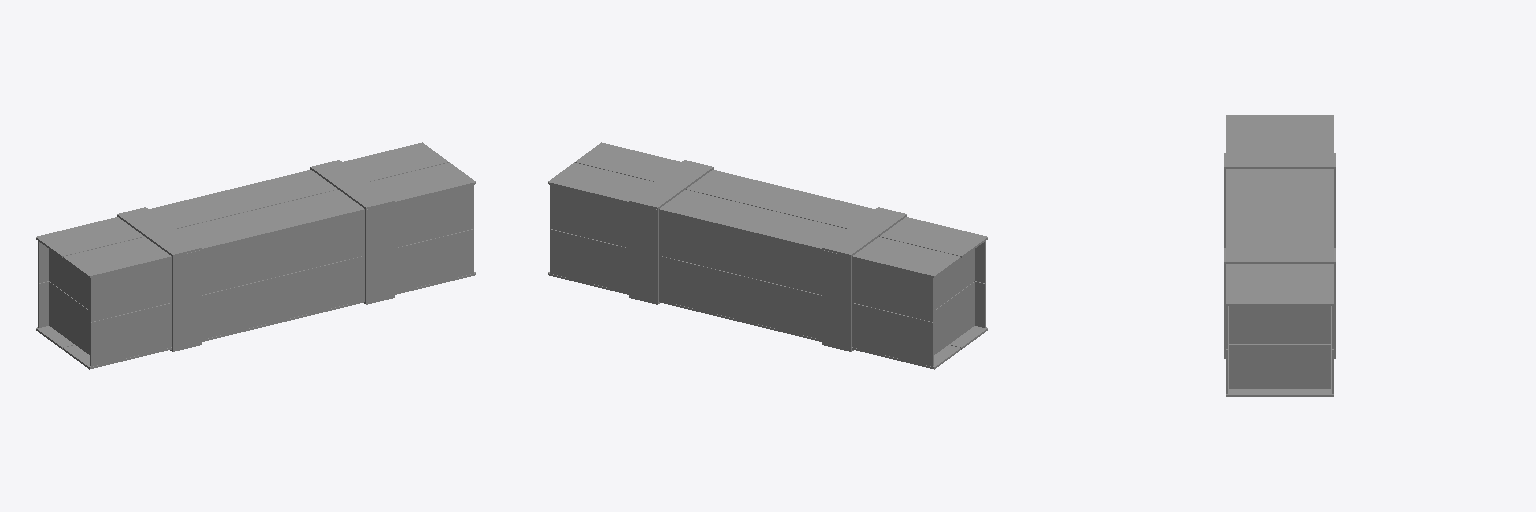
The model's file is Crate03_blend.obj.
3 renders of one model, left to right at view 1: azimuth 30°, elevation 25°; view 2: azimuth 150°, elevation 25°; view 3: azimuth 270°, elevation 25°, orthographic.
Parts seen in each view (by area): view 1: Crate_03_case, Crate_03_cover; view 2: Crate_03_case, Crate_03_cover; view 3: Crate_03_cover, Crate_03_case.
Part boxes in pixels (x1,y1,x2,y2): Crate_03_case: (36,169,475,369); Crate_03_cover: (36,142,475,277); Crate_03_case: (548,169,987,369); Crate_03_cover: (548,142,987,277); Crate_03_cover: (1224,115,1335,305); Crate_03_case: (1224,169,1335,396).
Size of the model in its own units: 1 by 0.24 by 0.251.